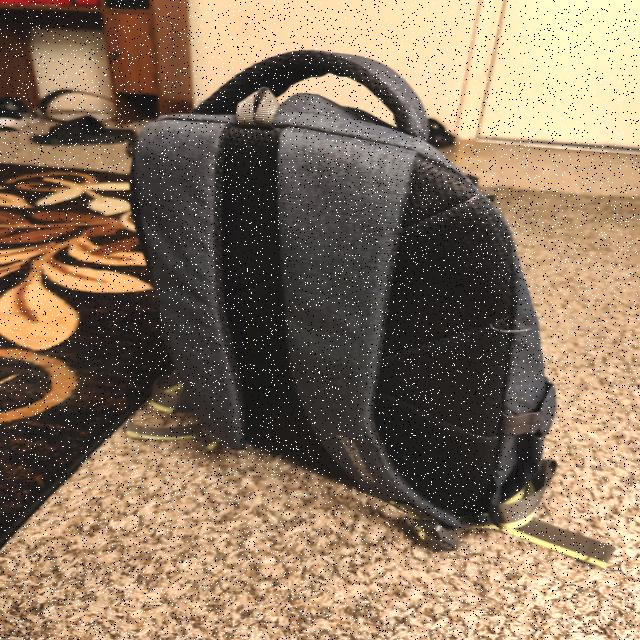bag: (162, 51, 538, 490)
